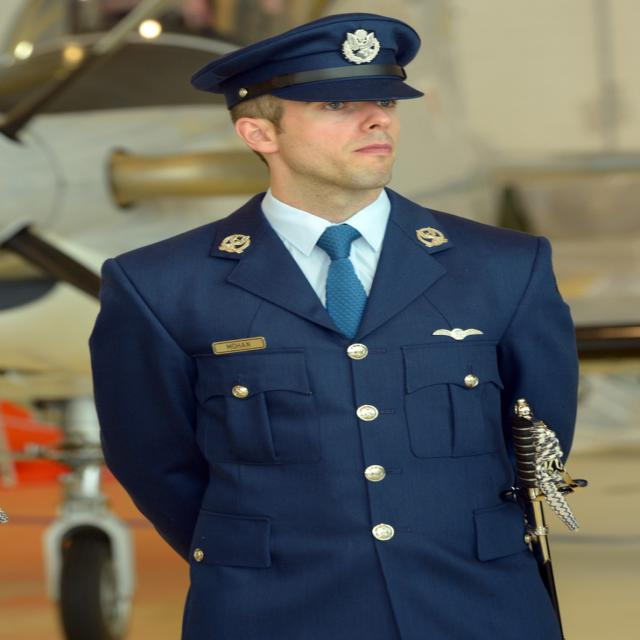Hat: (190, 12, 424, 102)
